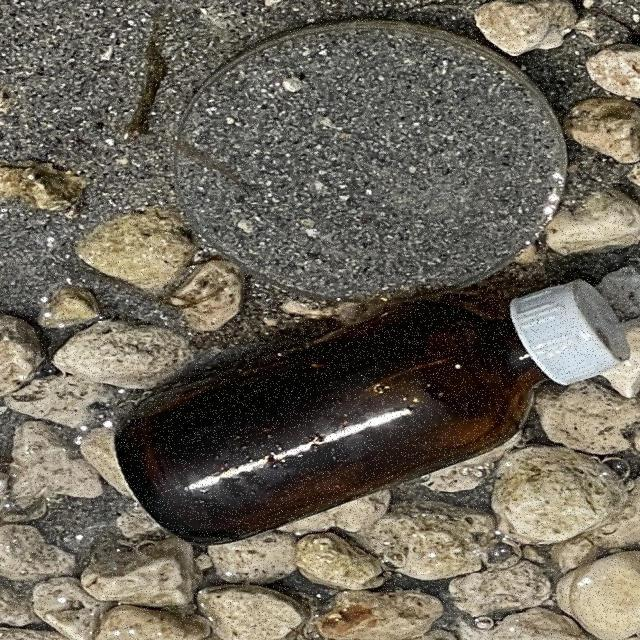glass_waste: (112, 279, 633, 549)
